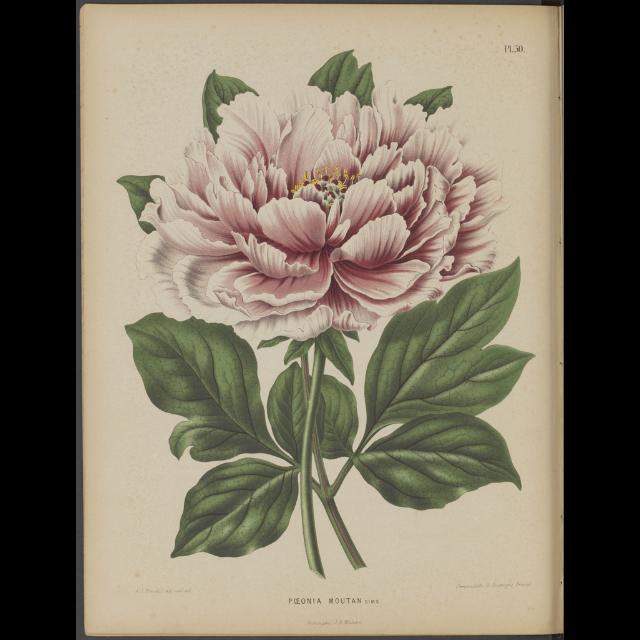Flower: (127, 60, 505, 346)
